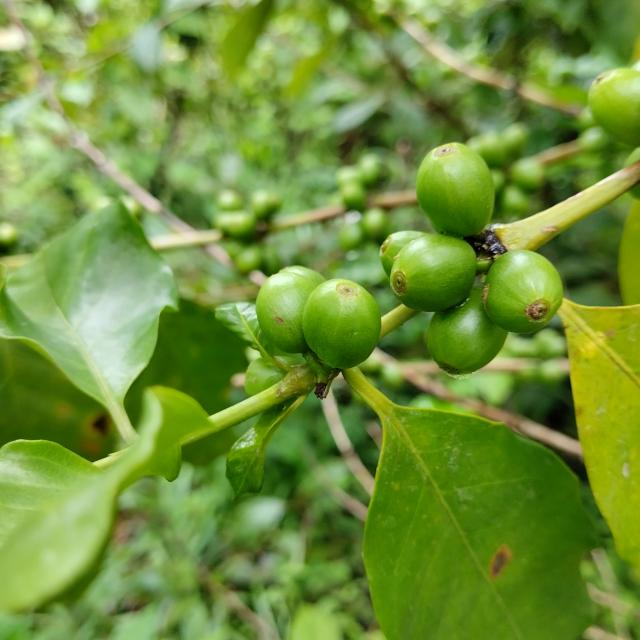green: (416, 142, 496, 237), (427, 287, 509, 378), (302, 279, 381, 369), (391, 234, 478, 312), (483, 250, 564, 333), (256, 271, 317, 353), (589, 67, 640, 145), (380, 230, 429, 277), (279, 265, 325, 287)
